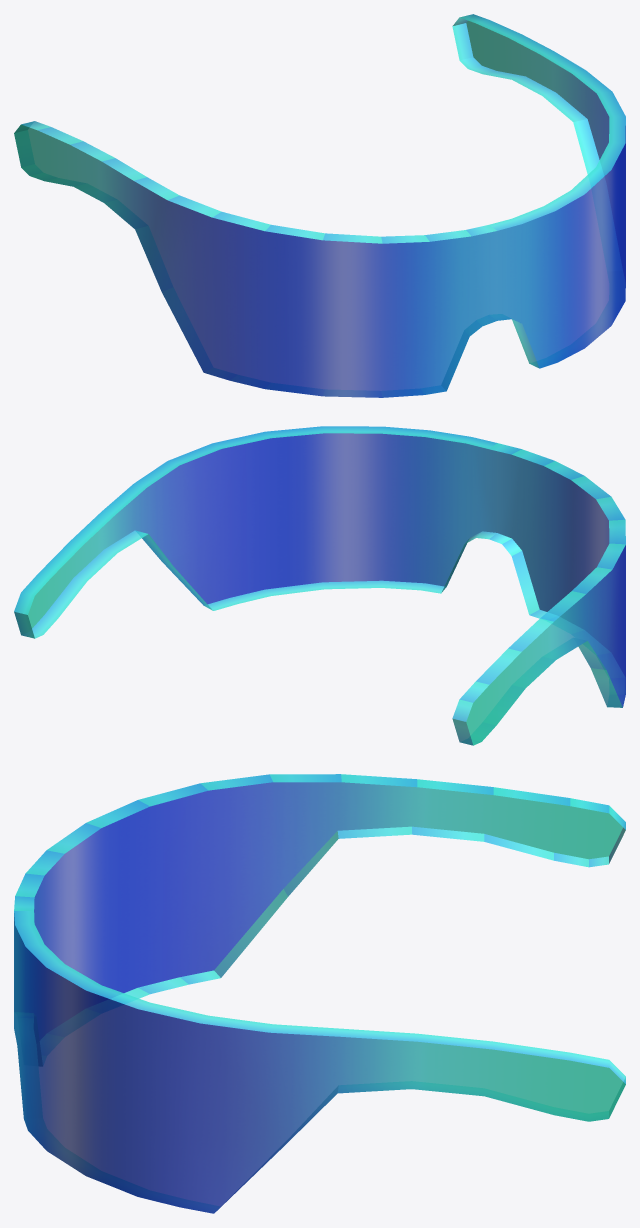
The model's file is glass5.glb.
The picture shows the model from 3 angles, top to bottom: view 1: azimuth 30°, elevation 25°; view 2: azimuth 150°, elevation 25°; view 3: azimuth 270°, elevation 25°; orthographic projection. The views are drawn at different scales.
Visible parts, largest first — view 1: Wolf3D_Glasses; view 2: Wolf3D_Glasses; view 3: Wolf3D_Glasses.
Part boxes in pixels (x1=…): Wolf3D_Glasses: x1=14, y1=14, x2=625, y2=397; Wolf3D_Glasses: x1=14, y1=426, x2=625, y2=745; Wolf3D_Glasses: x1=14, y1=774, x2=625, y2=1213.
Size of the model in its own units: 0.1663 by 0.0559 by 0.1637.
Materials: 1 (1 with a texture image).
